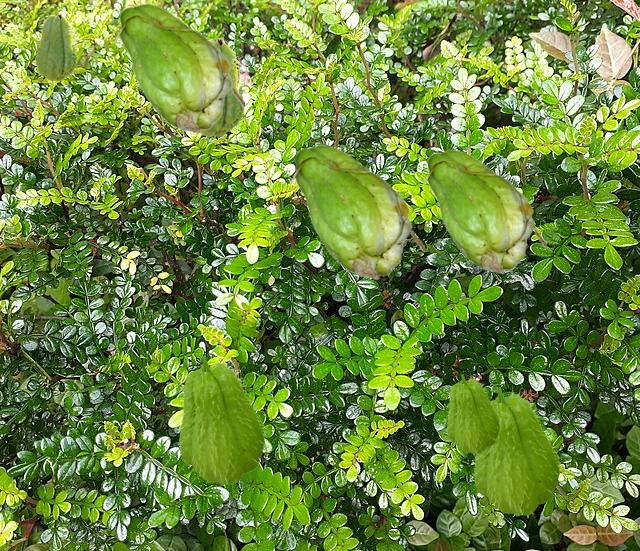sayote: (288, 144, 423, 279), (113, 3, 243, 133), (421, 149, 545, 273), (471, 385, 561, 515), (176, 354, 266, 484), (200, 37, 246, 139), (445, 373, 500, 453), (34, 13, 77, 82)
